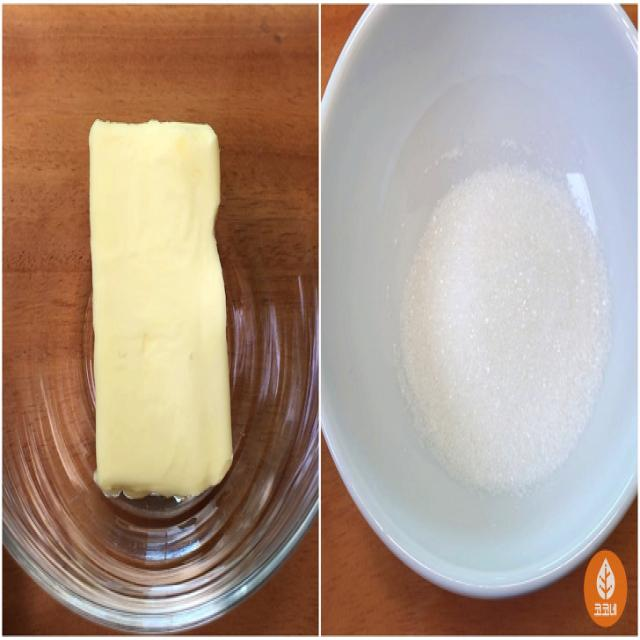Butter: (81, 111, 238, 498)
